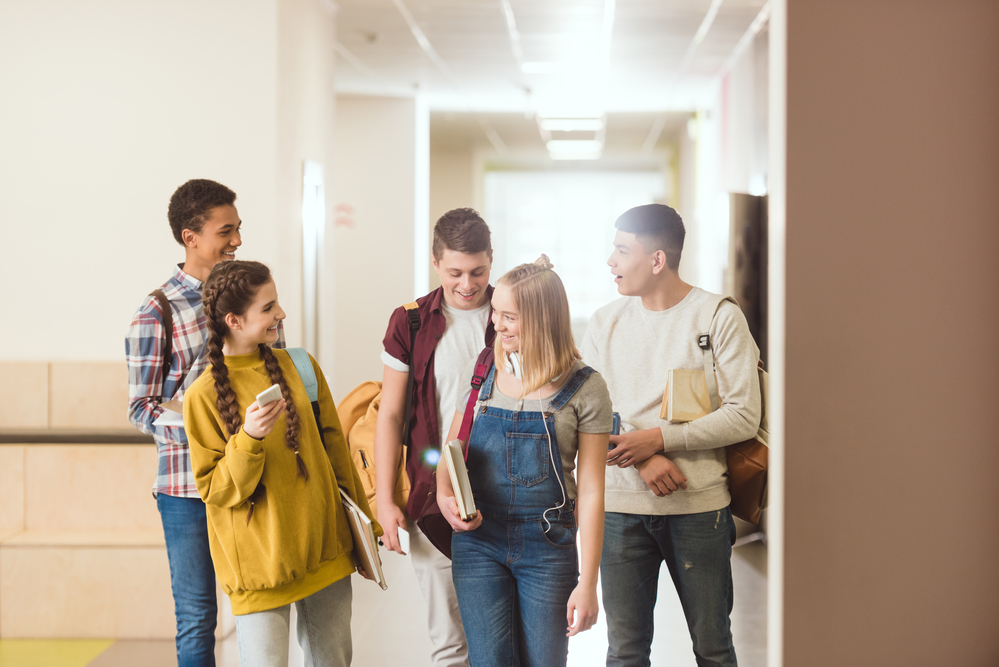students: (575, 202, 761, 665), (182, 259, 370, 663), (434, 261, 613, 661), (126, 177, 249, 665), (374, 207, 496, 661)
